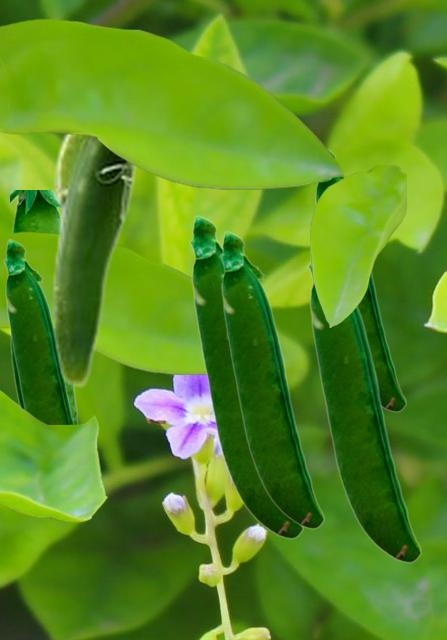pea: (189, 214, 302, 538), (307, 254, 420, 562), (219, 230, 323, 528), (314, 147, 405, 411), (51, 135, 141, 387), (10, 190, 80, 422), (3, 238, 74, 423)
